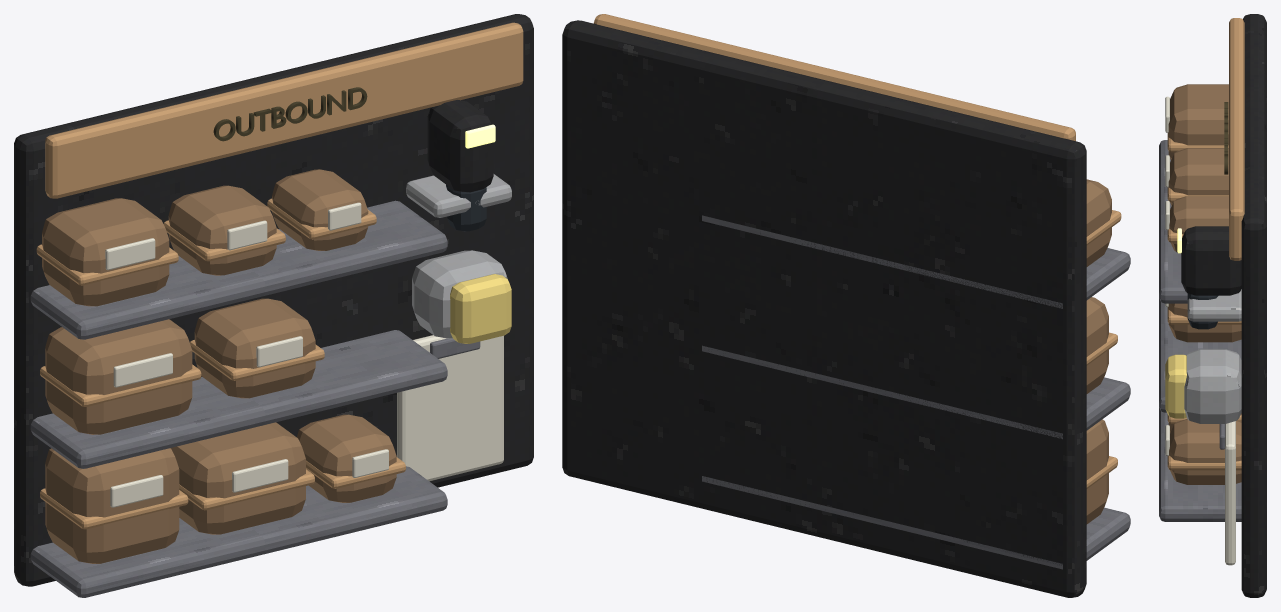
File: decor_cargo_parcel_shelf.glb
The picture shows the model from 3 angles, left to right: view 1: azimuth 30°, elevation 25°; view 2: azimuth 150°, elevation 25°; view 3: azimuth 270°, elevation 25°; orthographic projection. The views are drawn at different scales.
Parts seen in each view (by area): view 1: DEC_CargoParcelShelf__Backboard, DEC_CargoParcelShelf__Header, DEC_CargoParcelShelf__Shelf_2, DEC_CargoParcelShelf__Shelf_3, DEC_CargoParcelShelf__Shelf_1, DEC_CargoParcelShelf__Clipboard, DEC_CargoParcelShelf__Parcel_4, DEC_CargoParcelShelf__Parcel_6, DEC_CargoParcelShelf__Parcel_7, DEC_CargoParcelShelf__Parcel_1, DEC_CargoParcelShelf__Parcel_5, DEC_CargoParcelShelf__Parcel_2 (+24 smaller); view 2: DEC_CargoParcelShelf__Backboard, DEC_CargoParcelShelf__Header, DEC_CargoParcelShelf__Shelf_1, DEC_CargoParcelShelf__Shelf_2, DEC_CargoParcelShelf__Shelf_3, DEC_CargoParcelShelf__Parcel_6, DEC_CargoParcelShelf__Parcel_4, DEC_CargoParcelShelf__Parcel_1; view 3: DEC_CargoParcelShelf__Backboard, DEC_CargoParcelShelf__Tape_Dispenser, DEC_CargoParcelShelf__Header, DEC_CargoParcelShelf__Scanner_Body, DEC_CargoParcelShelf__Parcel_1, DEC_CargoParcelShelf__Shelf_1, DEC_CargoParcelShelf__Parcel_8, DEC_CargoParcelShelf__Parcel_2, DEC_CargoParcelShelf__Shelf_3, DEC_CargoParcelShelf__Parcel_3, DEC_CargoParcelShelf__Shelf_2, DEC_CargoParcelShelf__Clipboard (+11 smaller).
Boxes of the visible parts, x1,y1,x2,y2 form: DEC_CargoParcelShelf__Backboard: (14, 14, 533, 586); DEC_CargoParcelShelf__Header: (45, 22, 523, 198); DEC_CargoParcelShelf__Shelf_2: (30, 330, 447, 468); DEC_CargoParcelShelf__Shelf_3: (30, 200, 447, 339); DEC_CargoParcelShelf__Shelf_1: (30, 466, 447, 597); DEC_CargoParcelShelf__Clipboard: (397, 335, 503, 481); DEC_CargoParcelShelf__Parcel_4: (45, 319, 192, 434); DEC_CargoParcelShelf__Parcel_6: (45, 448, 179, 563); DEC_CargoParcelShelf__Parcel_7: (170, 422, 305, 534); DEC_CargoParcelShelf__Parcel_1: (42, 198, 169, 306); DEC_CargoParcelShelf__Parcel_5: (194, 298, 315, 398); DEC_CargoParcelShelf__Parcel_2: (168, 185, 276, 275); DEC_CargoParcelShelf__Backboard: (562, 20, 1086, 597); DEC_CargoParcelShelf__Header: (593, 14, 1075, 141); DEC_CargoParcelShelf__Shelf_1: (702, 476, 1130, 569); DEC_CargoParcelShelf__Shelf_2: (702, 345, 1130, 439); DEC_CargoParcelShelf__Shelf_3: (702, 215, 1130, 308); DEC_CargoParcelShelf__Parcel_6: (1086, 419, 1108, 524); DEC_CargoParcelShelf__Parcel_4: (1086, 297, 1108, 393); DEC_CargoParcelShelf__Parcel_1: (1086, 179, 1111, 266); DEC_CargoParcelShelf__Backboard: (1241, 14, 1266, 597); DEC_CargoParcelShelf__Tape_Dispenser: (1184, 349, 1241, 423); DEC_CargoParcelShelf__Header: (1229, 18, 1244, 260); DEC_CargoParcelShelf__Scanner_Body: (1181, 226, 1241, 295); DEC_CargoParcelShelf__Parcel_1: (1168, 84, 1228, 159); DEC_CargoParcelShelf__Shelf_1: (1159, 407, 1241, 521); DEC_CargoParcelShelf__Parcel_8: (1169, 419, 1241, 484); DEC_CargoParcelShelf__Parcel_2: (1168, 148, 1228, 205); DEC_CargoParcelShelf__Shelf_3: (1159, 140, 1187, 303); DEC_CargoParcelShelf__Parcel_3: (1169, 196, 1228, 252); DEC_CargoParcelShelf__Shelf_2: (1159, 298, 1241, 412); DEC_CargoParcelShelf__Clipboard: (1225, 421, 1235, 565).
Size of the model in its own units: 1.58 by 1.33 by 0.34.
10 materials, 3 textured.
